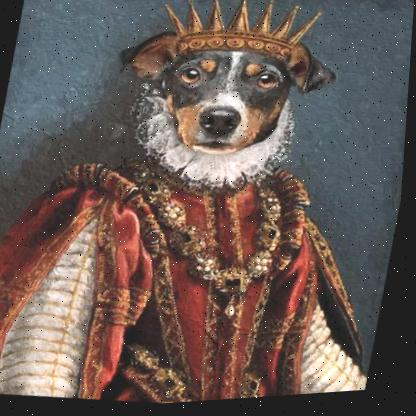dog: (95, 0, 352, 201)
person: (0, 133, 405, 416)
